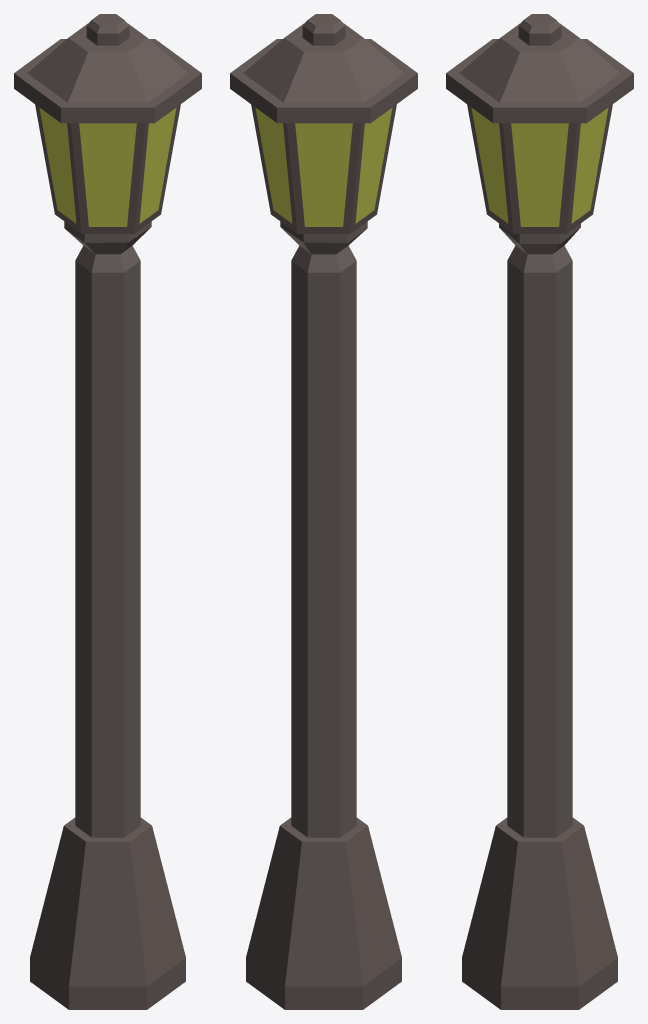
File: StreetLight(1).fbx
3 renders of one model, left to right at view 1: azimuth 30°, elevation 25°; view 2: azimuth 150°, elevation 25°; view 3: azimuth 270°, elevation 25°, orthographic.
Visible parts, largest first — view 1: StreetLight(1); view 2: StreetLight(1); view 3: StreetLight(1).
Part boxes in pixels (x1,y1,x2,y2): StreetLight(1): (14, 14, 201, 1009); StreetLight(1): (230, 14, 417, 1009); StreetLight(1): (446, 14, 633, 1009).
Bounding box in the file's own units: 62.75 × 409 × 72.45.
